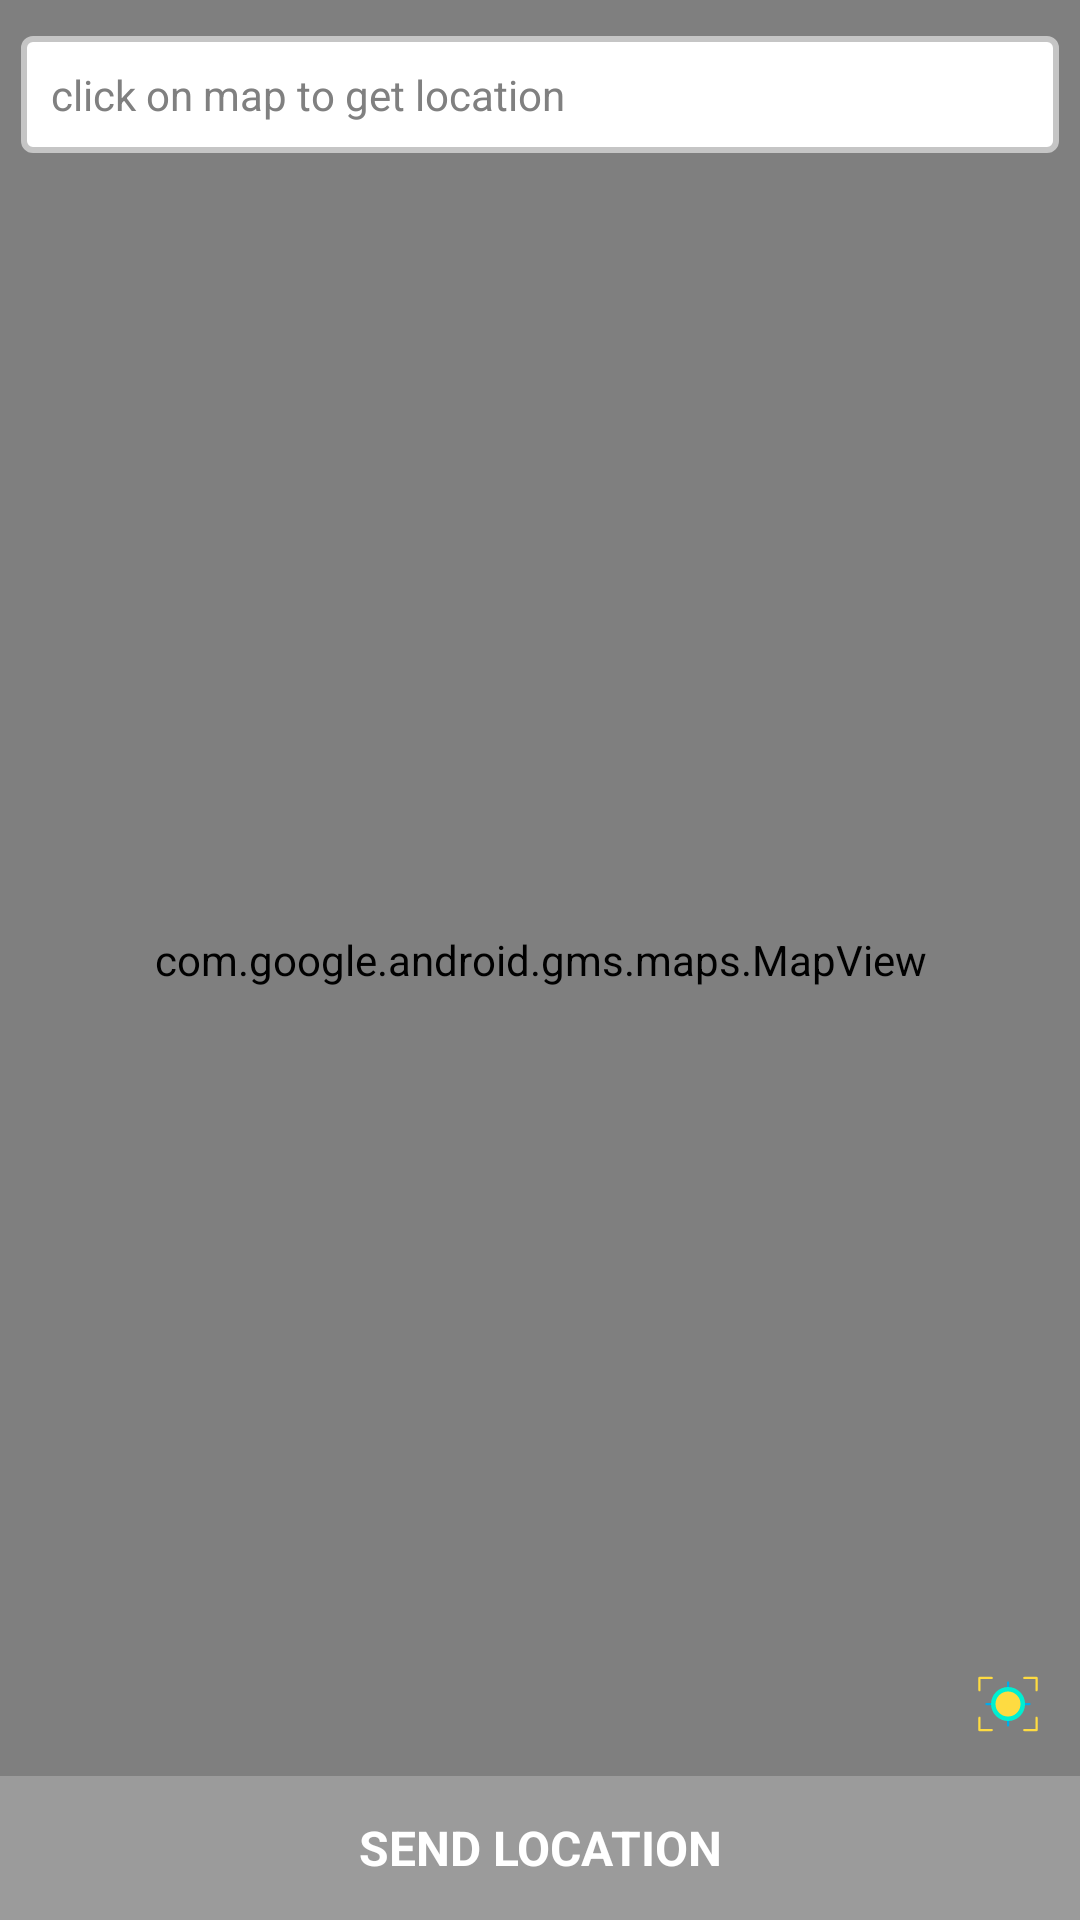

Point at icon controls on the screen. Image size 1080 × 1920, points as point (x, y).
current location: point (1008, 1704)
